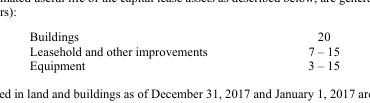table: (28, 29, 338, 72)
table column: (28, 29, 257, 72), (257, 29, 338, 72)
table row: (28, 57, 338, 72), (28, 29, 338, 43), (28, 43, 338, 57)
